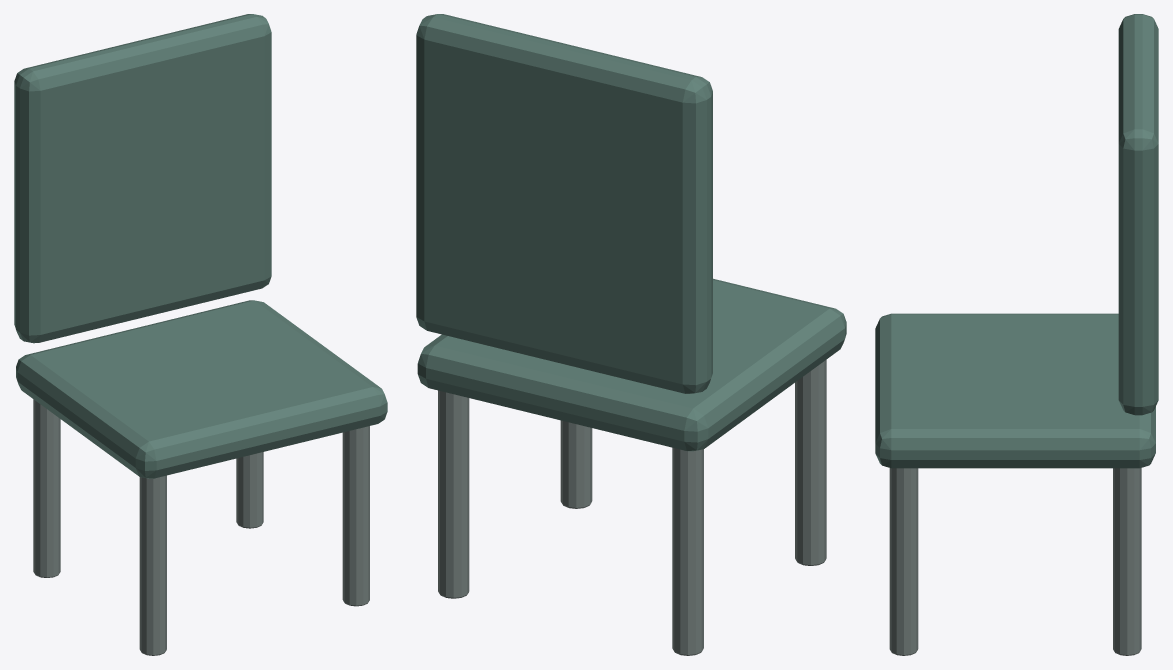
Rendered from H_Chair.fbx.
The picture shows the model from 3 angles, left to right: view 1: azimuth 30°, elevation 25°; view 2: azimuth 150°, elevation 25°; view 3: azimuth 270°, elevation 25°; orthographic projection. The views are drawn at different scales.
Parts seen in each view (by area): view 1: H_Chair; view 2: H_Chair; view 3: H_Chair.
Boxes of the visible parts, bbox=[...] form: H_Chair: bbox=[14, 14, 387, 655]; H_Chair: bbox=[416, 14, 846, 655]; H_Chair: bbox=[875, 14, 1158, 655].
Size of the model in its own units: 0.53 by 1.02 by 0.495.
